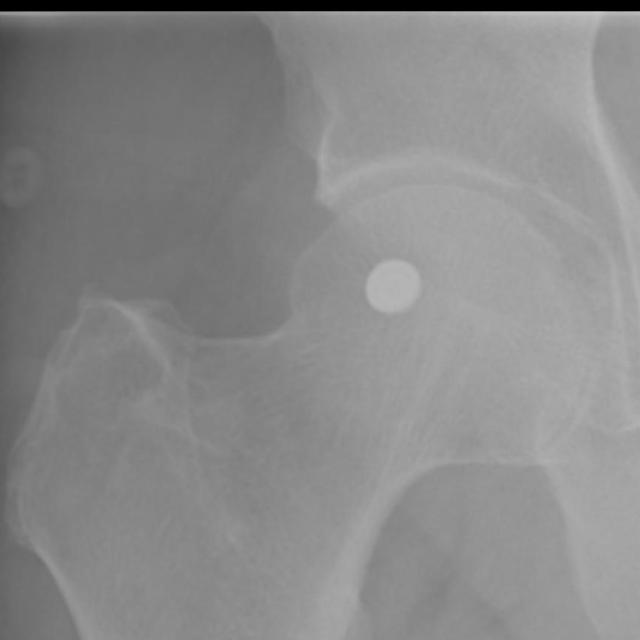Fitted_femural_head: (310, 181, 432, 310)
